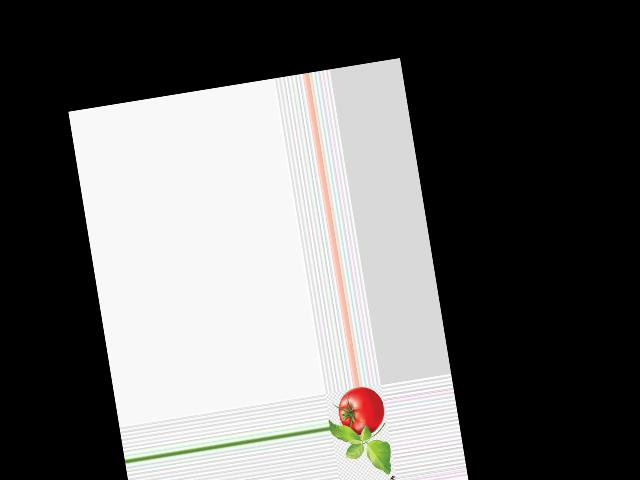tomato: (335, 383, 387, 438)
